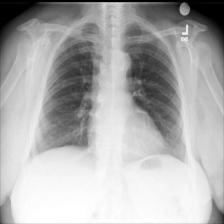normal: (31, 18, 191, 167)
